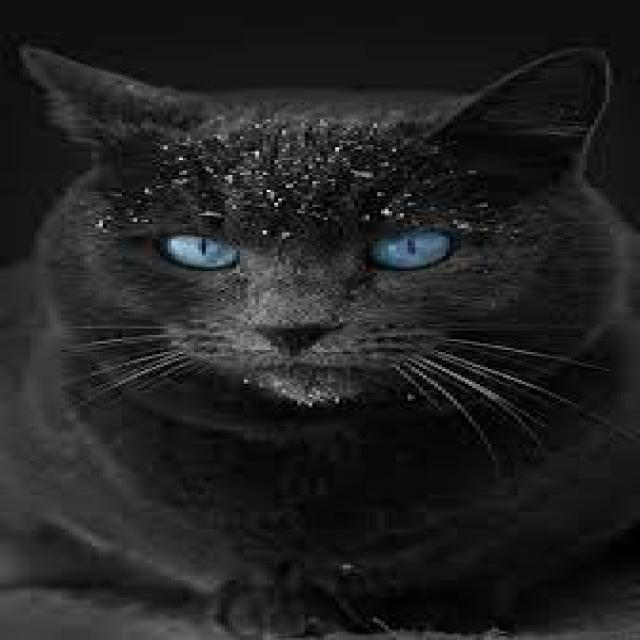Cat: (0, 38, 636, 640)
